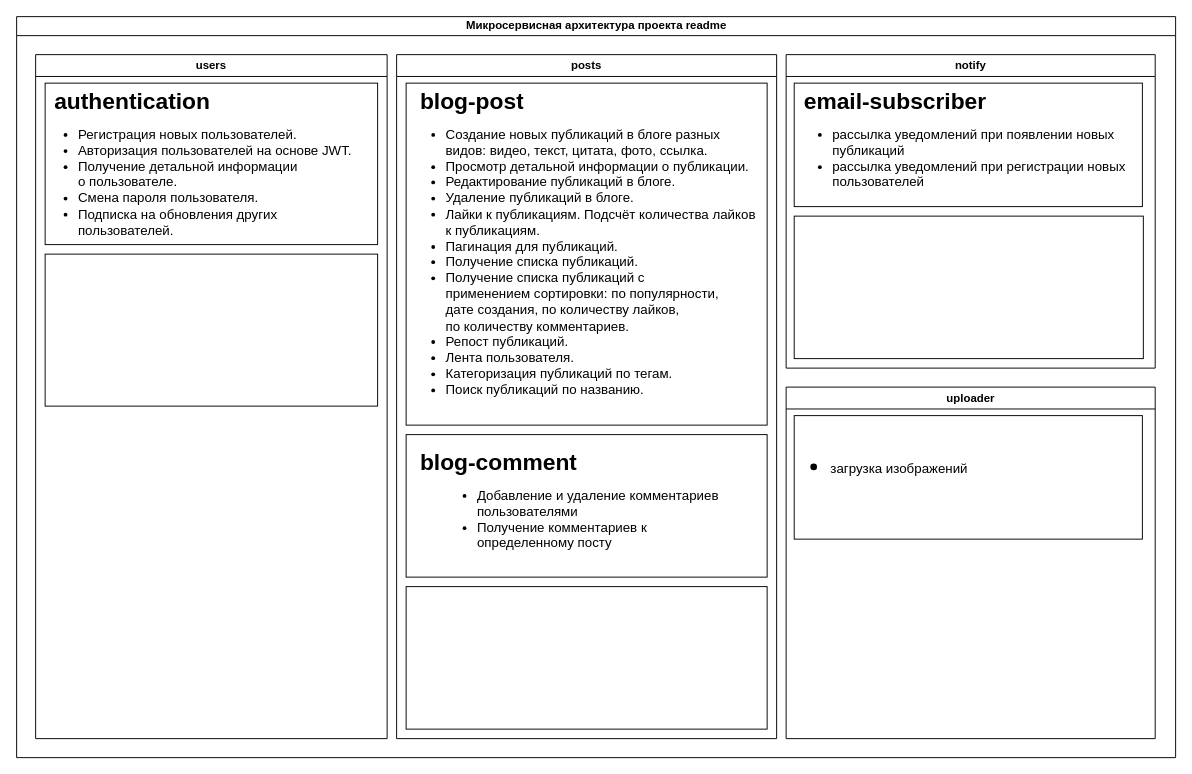
Image size: 1192x774. Some labels were removed from this diagram. The centre of each missing label's shape, as x and y in pixels:
"blog-user" goes at (211,329).
"mail" goes at (968,287).
"prisma" goes at (586,657).
